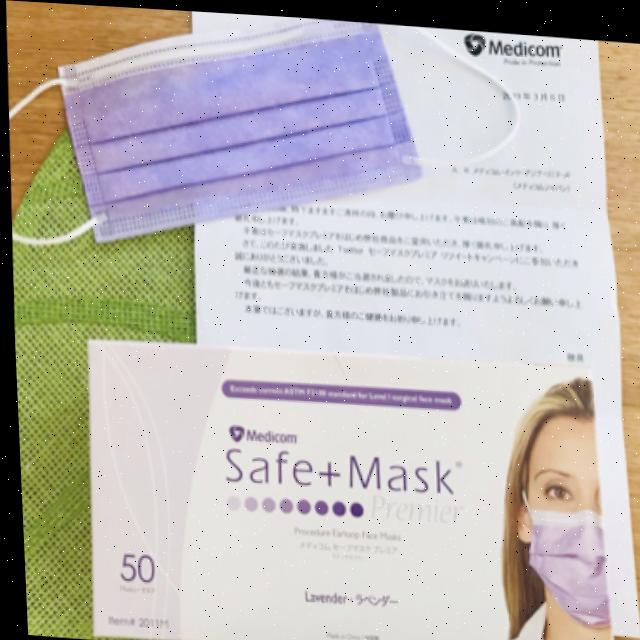Mask: (502, 496, 624, 622)
